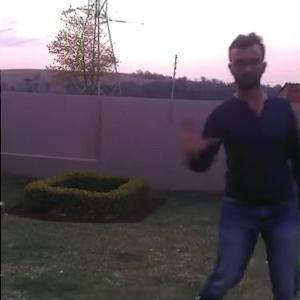follow_hand: (172, 112, 215, 159)
